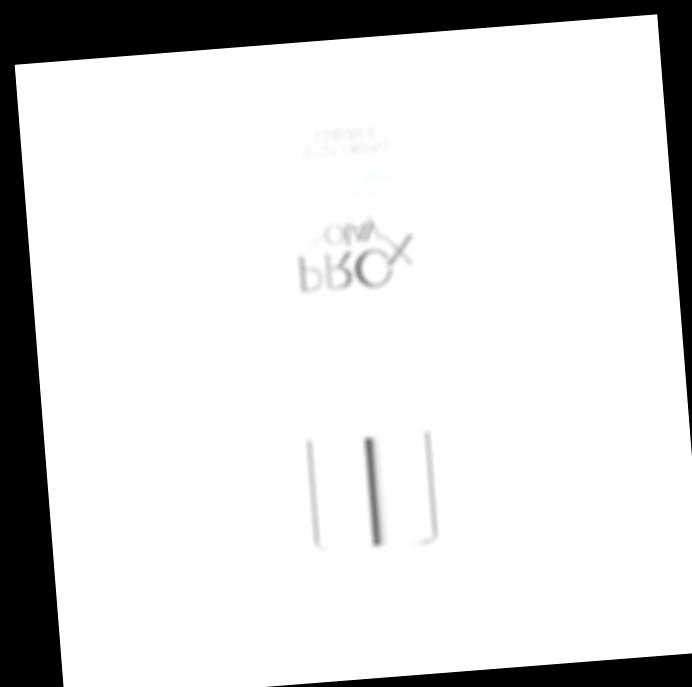cosmetic: (262, 75, 470, 649)
